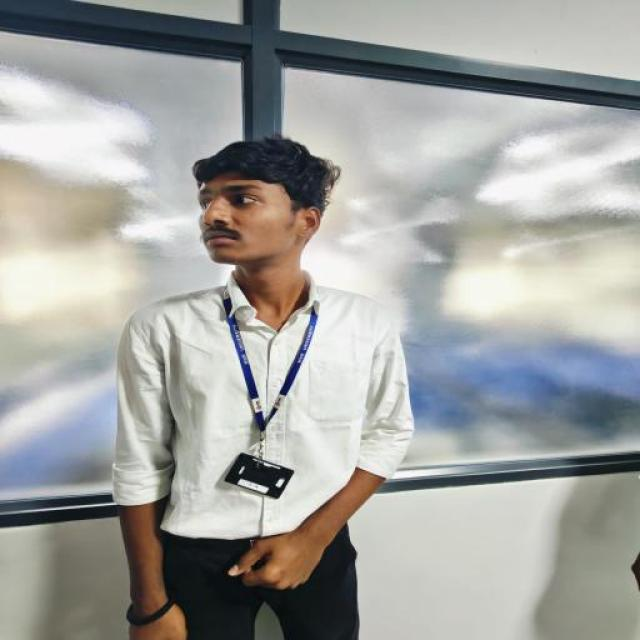Card: (225, 453, 293, 498)
Id strap: (223, 287, 317, 432)
